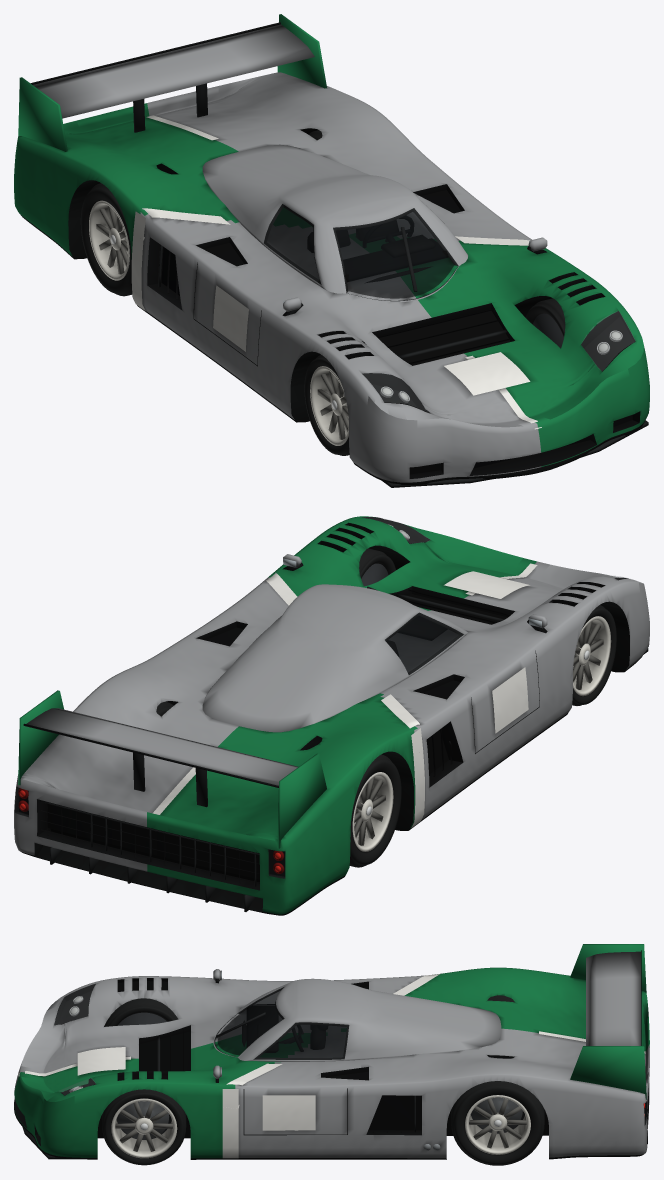
The model's file is mazda-787b.glb.
3 renders of one model, top to bottom at view 1: azimuth 30°, elevation 25°; view 2: azimuth 150°, elevation 25°; view 3: azimuth 270°, elevation 25°, orthographic. The views are drawn at different scales.
Visible parts, largest first — view 1: Coachwork, Body, Wheel_RR, Wheel_FR, Wheel_FL; view 2: Coachwork, Body, Wheel_RR, Wheel_FR, Wheel_FL; view 3: Coachwork, Body, Wheel_RL, Wheel_FL, Wheel_FR.
Part boxes in pixels (box(x1,y1,x2,y2)): Coachwork: box(14, 72, 649, 484); Body: box(18, 14, 648, 487); Wheel_RR: box(80, 183, 132, 296); Wheel_FR: box(304, 355, 349, 455); Wheel_FL: box(525, 298, 565, 347); Coachwork: box(14, 516, 649, 915); Body: box(18, 517, 648, 911); Wheel_RR: box(349, 754, 401, 867); Wheel_FR: box(572, 605, 616, 705); Wheel_FL: box(359, 548, 395, 586); Coachwork: box(14, 967, 649, 1159); Body: box(18, 944, 647, 1159); Wheel_RL: box(451, 1081, 544, 1165); Wheel_FL: box(102, 1089, 186, 1165); Wheel_FR: box(104, 998, 178, 1026).
Bounding box in the file's own units: 1.99 × 0.9988 × 4.79.
